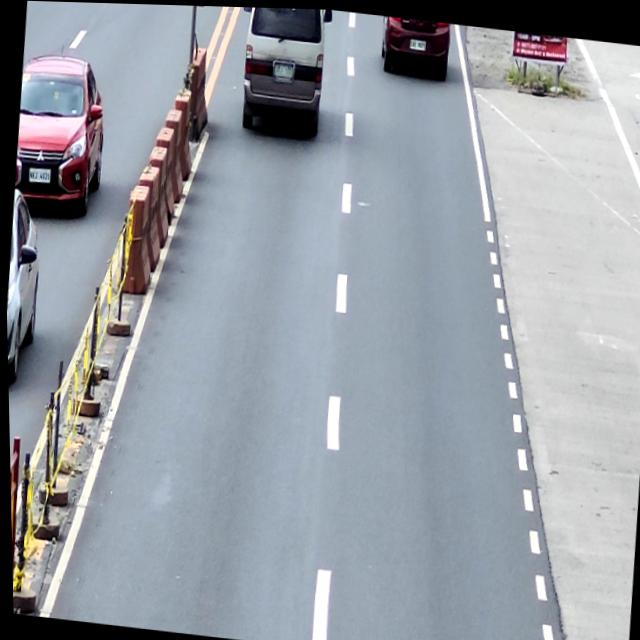Car: (9, 51, 112, 222), (232, 5, 334, 135), (3, 187, 46, 383), (377, 13, 452, 80)
License-Plate: (26, 166, 51, 183), (272, 61, 294, 76), (408, 35, 427, 49)
